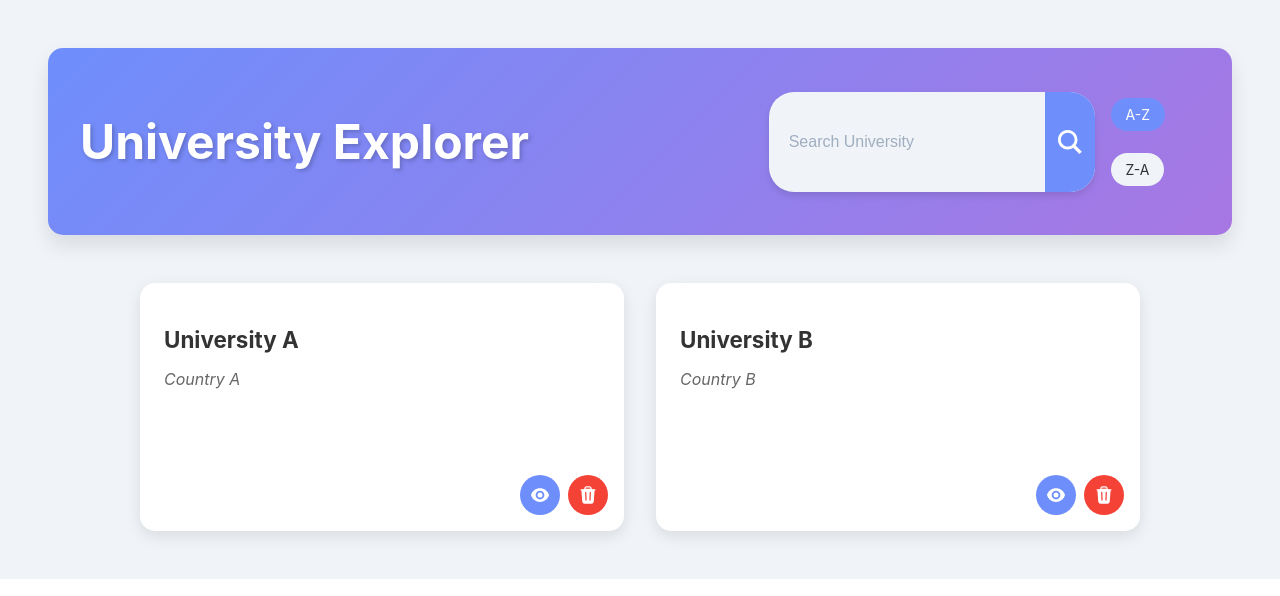
Test: Listing Component › deletes a university when delete button is clicked
Click the 1st button titled "Remove" at (588, 495), box [568,475,608,515]
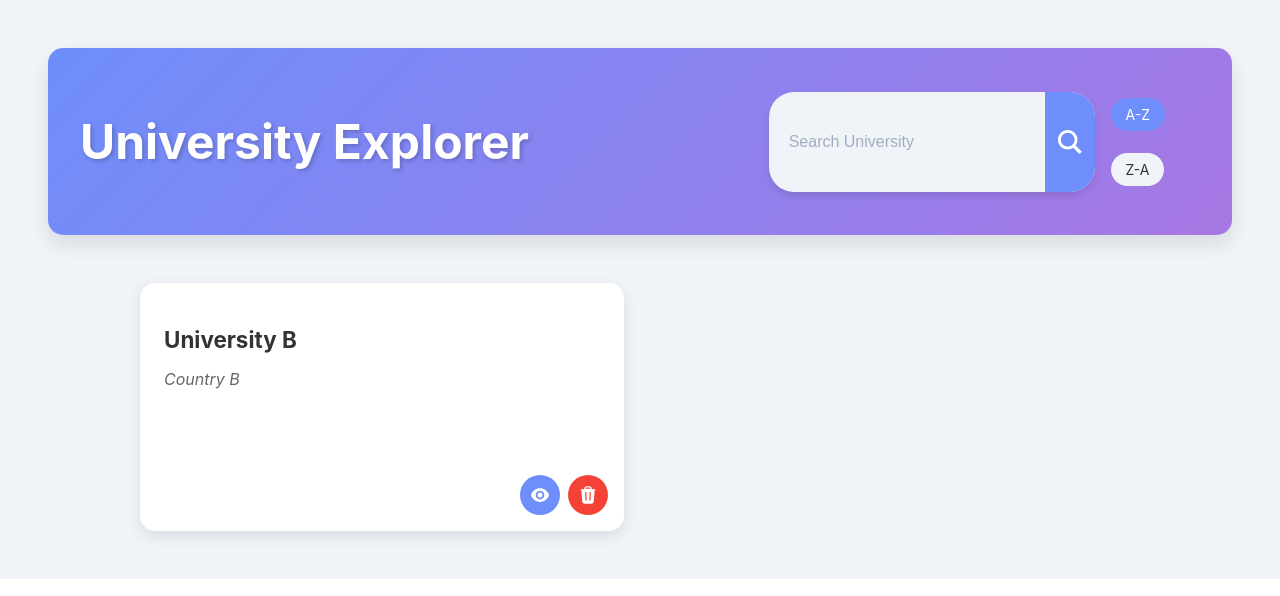
Expected: the heading "University B" is shown, [164,326,297,353]
Expected: the heading "University A" is gone
